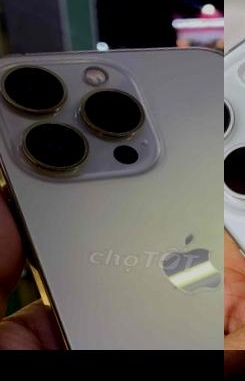scratch: (124, 350, 224, 381)
